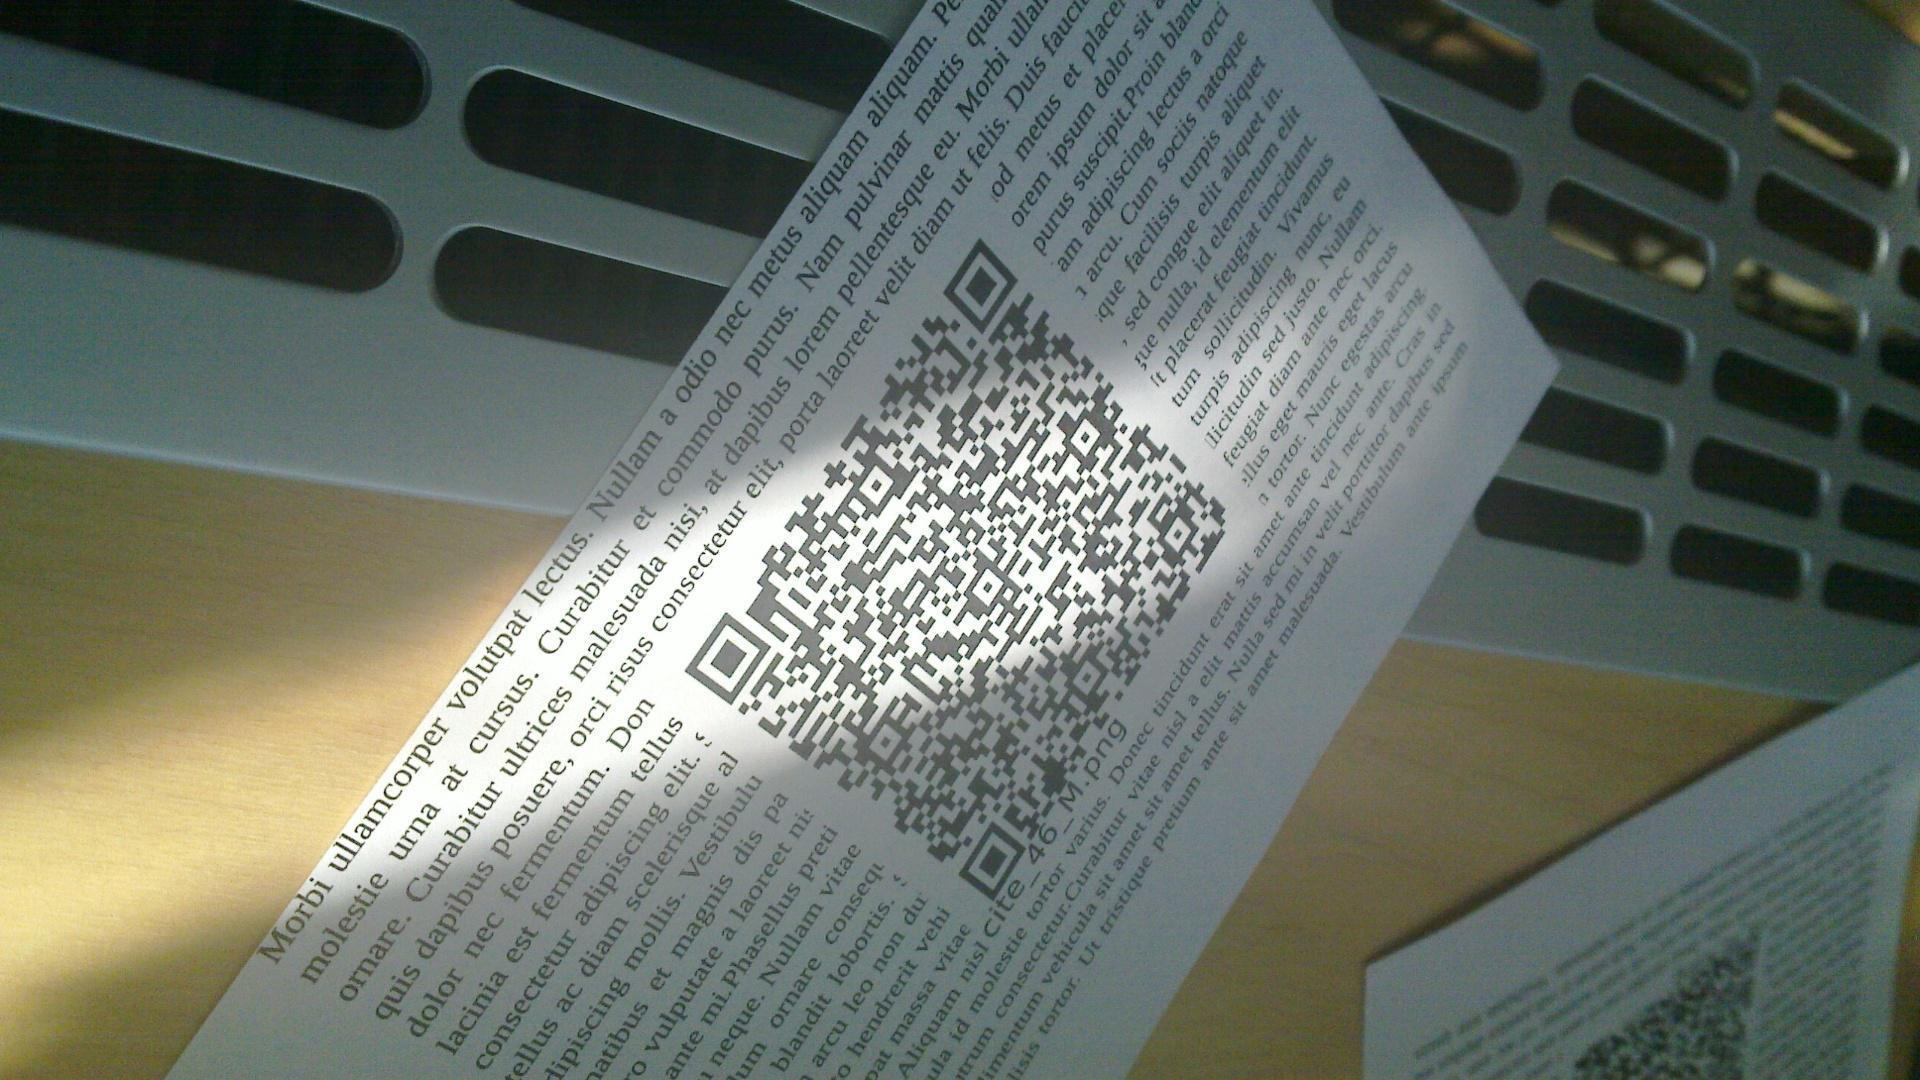qr_code: (683, 236, 1232, 902)
